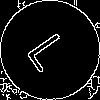L: (25, 25, 79, 74)
